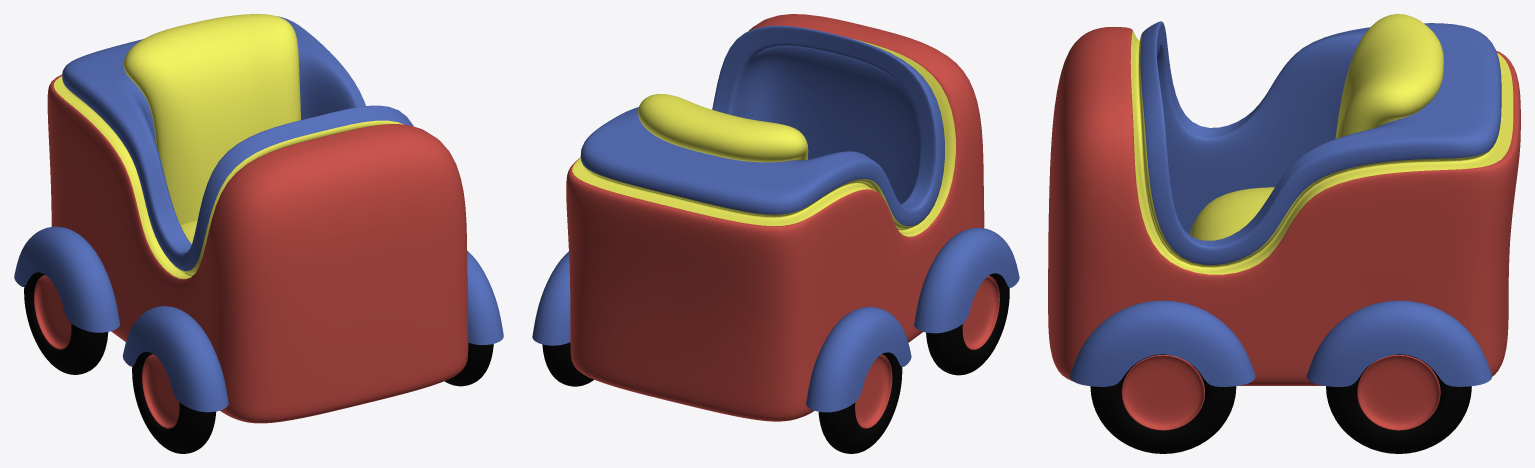
Rendered from truckred.fbx.
3 renders of one model, left to right at view 1: azimuth 30°, elevation 25°; view 2: azimuth 150°, elevation 25°; view 3: azimuth 270°, elevation 25°, orthographic. The views are drawn at different scales.
Parts seen in each view (by area): view 1: Body, Whells, Back; view 2: Body, Whells, Back; view 3: Body, Whells, Back, Seat.
Boxes of the visible parts, x1,y1,x2,y2 form: Body: (47, 16, 468, 423); Whells: (14, 226, 503, 453); Back: (124, 14, 300, 225); Body: (566, 14, 984, 421); Whells: (532, 227, 1019, 453); Back: (638, 94, 808, 162); Body: (1048, 21, 1520, 385); Whells: (1070, 300, 1492, 453); Back: (1335, 14, 1443, 138); Seat: (1190, 187, 1274, 240).
Size of the model in its own units: 68.52 by 62.53 by 80.8.
